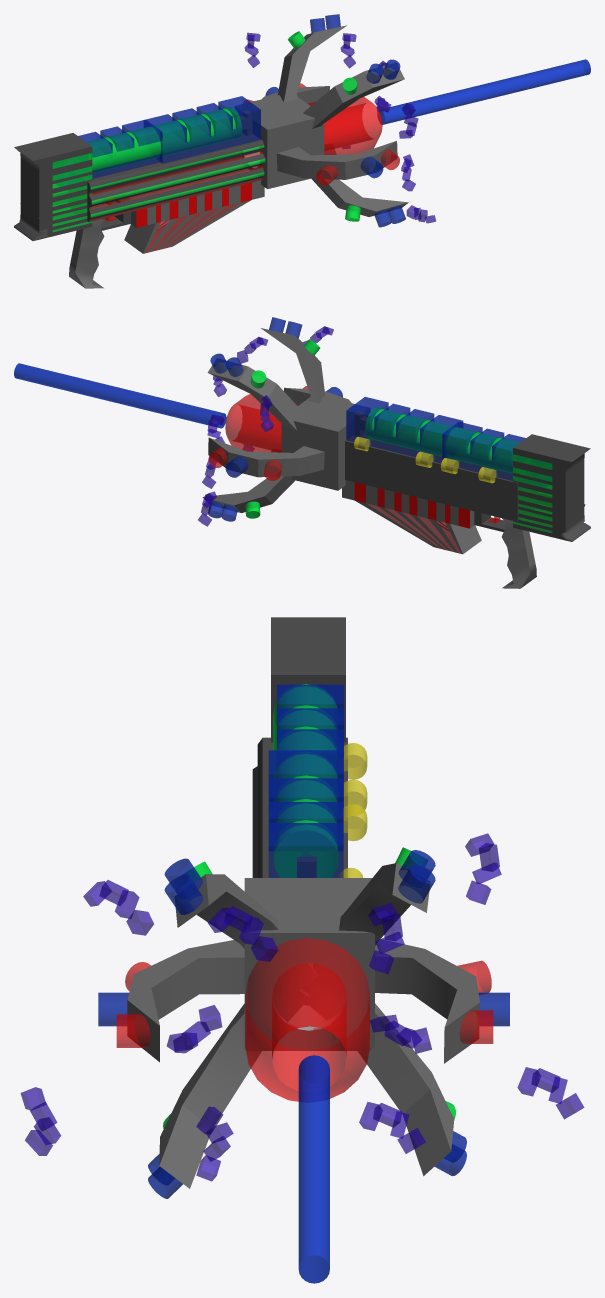
Rendered from alein blaster.fbx.
3 views of the same model, one above another, from view 1: azimuth 30°, elevation 25°; view 2: azimuth 150°, elevation 25°; view 3: azimuth 270°, elevation 25° (orthographic). The views are drawn at different scales.
Parts seen in each view (by area): view 1: callenge_alienblaster:polySurface16, callenge_alienblaster:polySurface37, callenge_alienblaster:polySurface36, callenge_alienblaster:polySurface38, callenge_alienblaster:polySurface15, callenge_alienblaster:polySurface18, callenge_alienblaster:polySurface76, callenge_alienblaster:polySurface14, callenge_alienblaster:polySurface43, callenge_alienblaster:polySurface17, callenge_alienblaster:polySurface29, callenge_alienblaster:polySurface33 (+4 smaller); view 2: callenge_alienblaster:polySurface16, callenge_alienblaster:polySurface37, callenge_alienblaster:polySurface36, callenge_alienblaster:polySurface38, callenge_alienblaster:polySurface15, callenge_alienblaster:polySurface18, callenge_alienblaster:polySurface43, callenge_alienblaster:polySurface76, callenge_alienblaster:polySurface9, callenge_alienblaster:polySurface17, callenge_alienblaster:polySurface13, callenge_alienblaster:polySurface33 (+4 smaller); view 3: callenge_alienblaster:polySurface18, callenge_alienblaster:polySurface17, callenge_alienblaster:polySurface38, callenge_alienblaster:polySurface15, callenge_alienblaster:polySurface8, callenge_alienblaster:polySurface12, callenge_alienblaster:polySurface76, callenge_alienblaster:polySurface14, callenge_alienblaster:polySurface9, callenge_alienblaster:polySurface37, callenge_alienblaster:polySurface43, callenge_alienblaster:polySurface29 (+8 smaller).
Part boxes in pixels (left/top/right/bottom): callenge_alienblaster:polySurface16: left=69, top=132, right=265, bottom=221; callenge_alienblaster:polySurface37: left=14, top=133, right=92, bottom=240; callenge_alienblaster:polySurface36: left=118, top=165, right=264, bottom=253; callenge_alienblaster:polySurface38: left=143, top=96, right=260, bottom=163; callenge_alienblaster:polySurface15: left=87, top=107, right=241, bottom=173; callenge_alienblaster:polySurface18: left=235, top=95, right=324, bottom=189; callenge_alienblaster:polySurface76: left=377, top=59, right=590, bottom=124; callenge_alienblaster:polySurface14: left=276, top=141, right=397, bottom=179; callenge_alienblaster:polySurface43: left=53, top=119, right=162, bottom=186; callenge_alienblaster:polySurface17: left=307, top=97, right=382, bottom=154; callenge_alienblaster:polySurface29: left=303, top=63, right=404, bottom=128; callenge_alienblaster:polySurface33: left=69, top=199, right=108, bottom=288; callenge_alienblaster:polySurface16: left=345, top=431, right=536, bottom=521; callenge_alienblaster:polySurface37: left=513, top=434, right=590, bottom=541; callenge_alienblaster:polySurface36: left=342, top=480, right=481, bottom=554; callenge_alienblaster:polySurface38: left=346, top=397, right=463, bottom=463; callenge_alienblaster:polySurface15: left=365, top=407, right=519, bottom=473; callenge_alienblaster:polySurface18: left=281, top=396, right=369, bottom=490; callenge_alienblaster:polySurface43: left=442, top=422, right=551, bottom=487; callenge_alienblaster:polySurface76: left=14, top=363, right=226, bottom=428; callenge_alienblaster:polySurface9: left=208, top=437, right=324, bottom=477; callenge_alienblaster:polySurface17: left=225, top=394, right=298, bottom=452; callenge_alienblaster:polySurface13: left=207, top=358, right=306, bottom=430; callenge_alienblaster:polySurface33: left=501, top=518, right=536, bottom=588; callenge_alienblaster:polySurface18: left=244, top=878, right=374, bottom=1050; callenge_alienblaster:polySurface17: left=245, top=938, right=369, bottom=1101; callenge_alienblaster:polySurface38: left=268, top=750, right=343, bottom=877; callenge_alienblaster:polySurface15: left=273, top=684, right=338, bottom=877; callenge_alienblaster:polySurface8: left=159, top=985, right=309, bottom=1188; callenge_alienblaster:polySurface12: left=302, top=982, right=454, bottom=1176; callenge_alienblaster:polySurface76: left=298, top=1055, right=329, bottom=1283; callenge_alienblaster:polySurface14: left=127, top=940, right=244, bottom=1062; callenge_alienblaster:polySurface9: left=375, top=939, right=479, bottom=1063; callenge_alienblaster:polySurface37: left=271, top=617, right=345, bottom=742; callenge_alienblaster:polySurface43: left=277, top=684, right=343, bottom=806; callenge_alienblaster:polySurface29: left=175, top=874, right=318, bottom=998.
Size of the model in its own units: 17.29 by 5.38 by 7.51.
